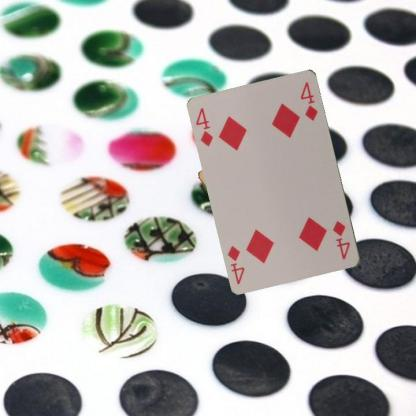4d: (330, 218, 352, 262), (193, 105, 215, 148)
